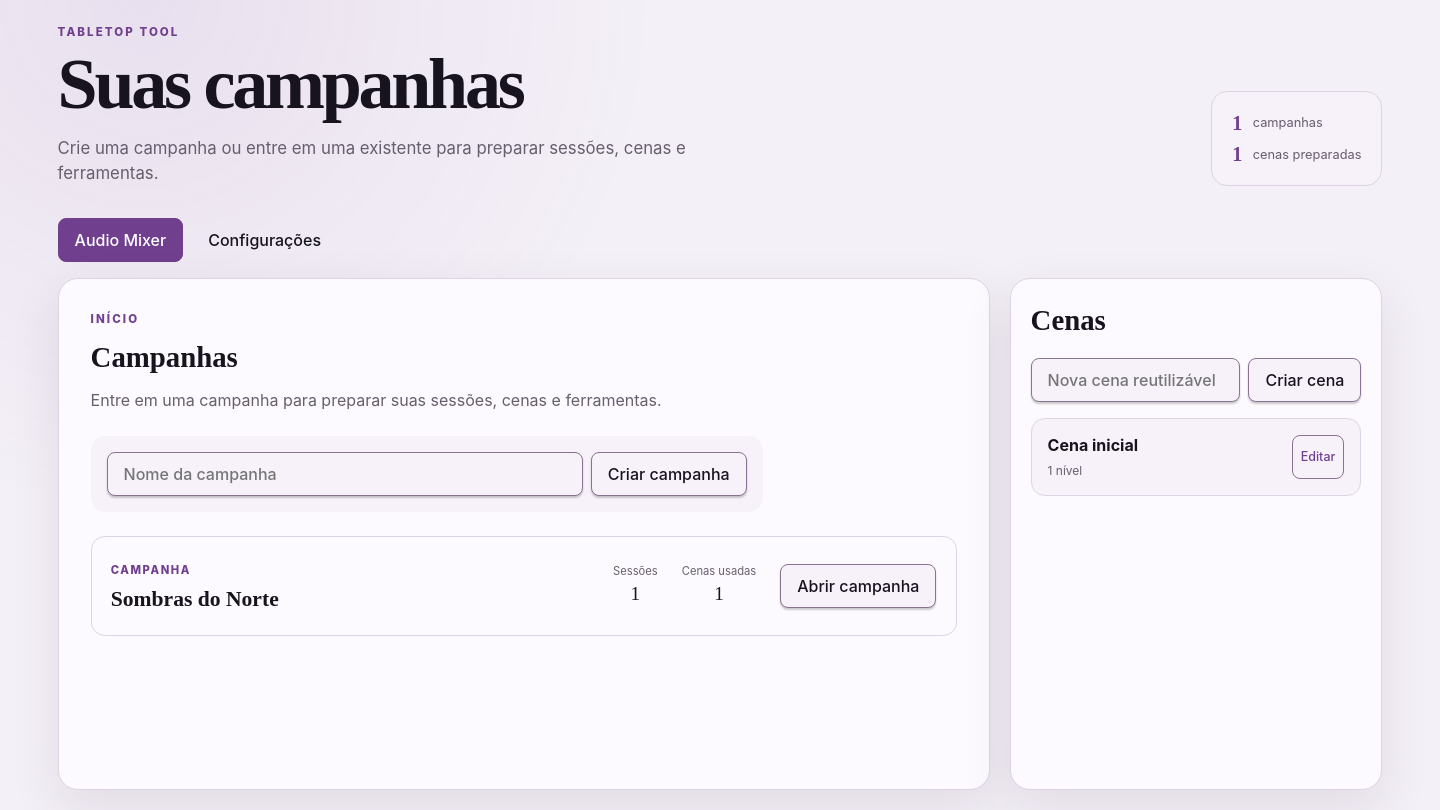
Test: Core workspace › opens a scene editor from a session sequence
Click the button with aria-label "Abrir campanha Sombras do Norte": (858, 586) [780,564,936,608]
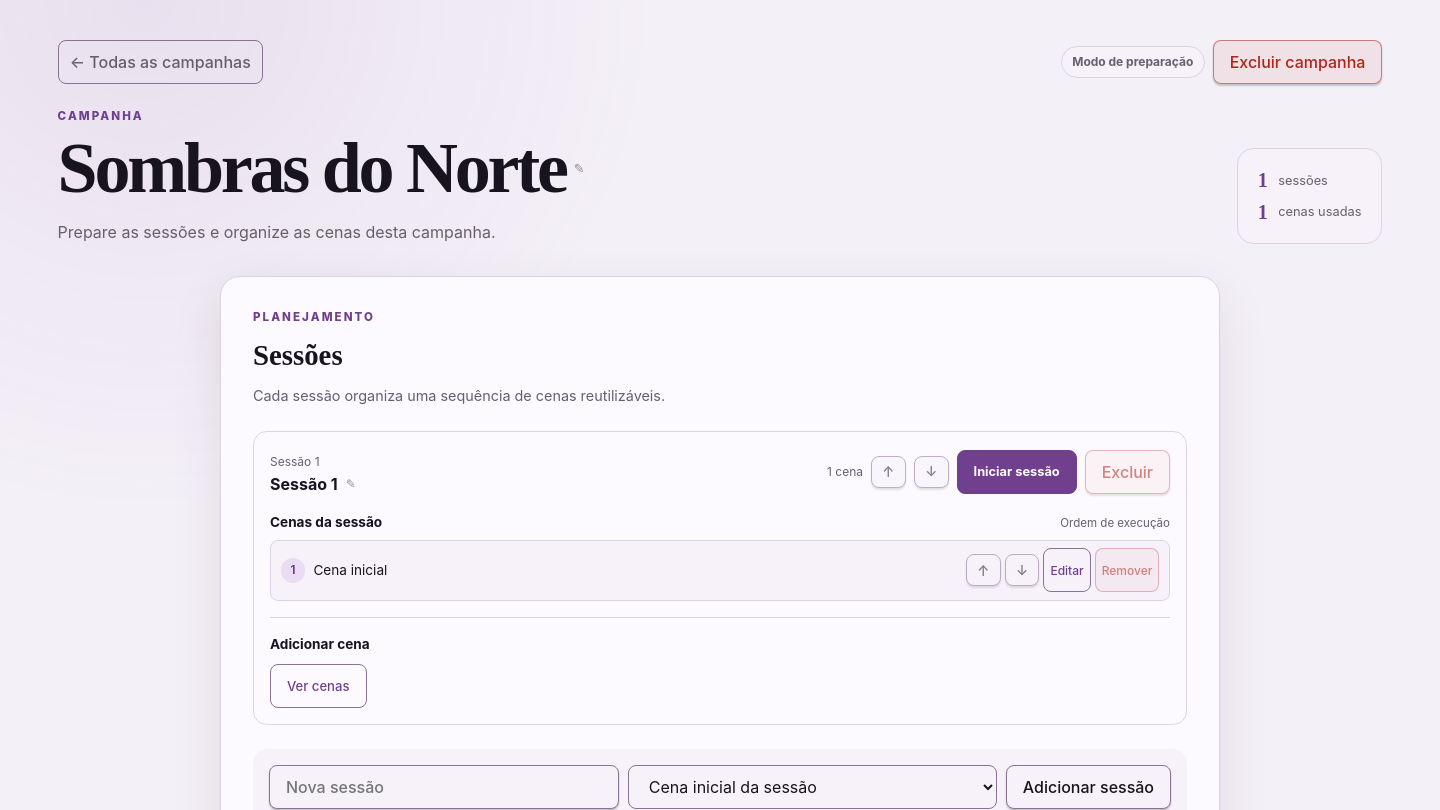
Expected: the element "Sessão 1" is shown, [253,431,1187,725]
Click the button with aria-label "Editar cena Cena inicial": (1067, 570) [1043,548,1091,592]
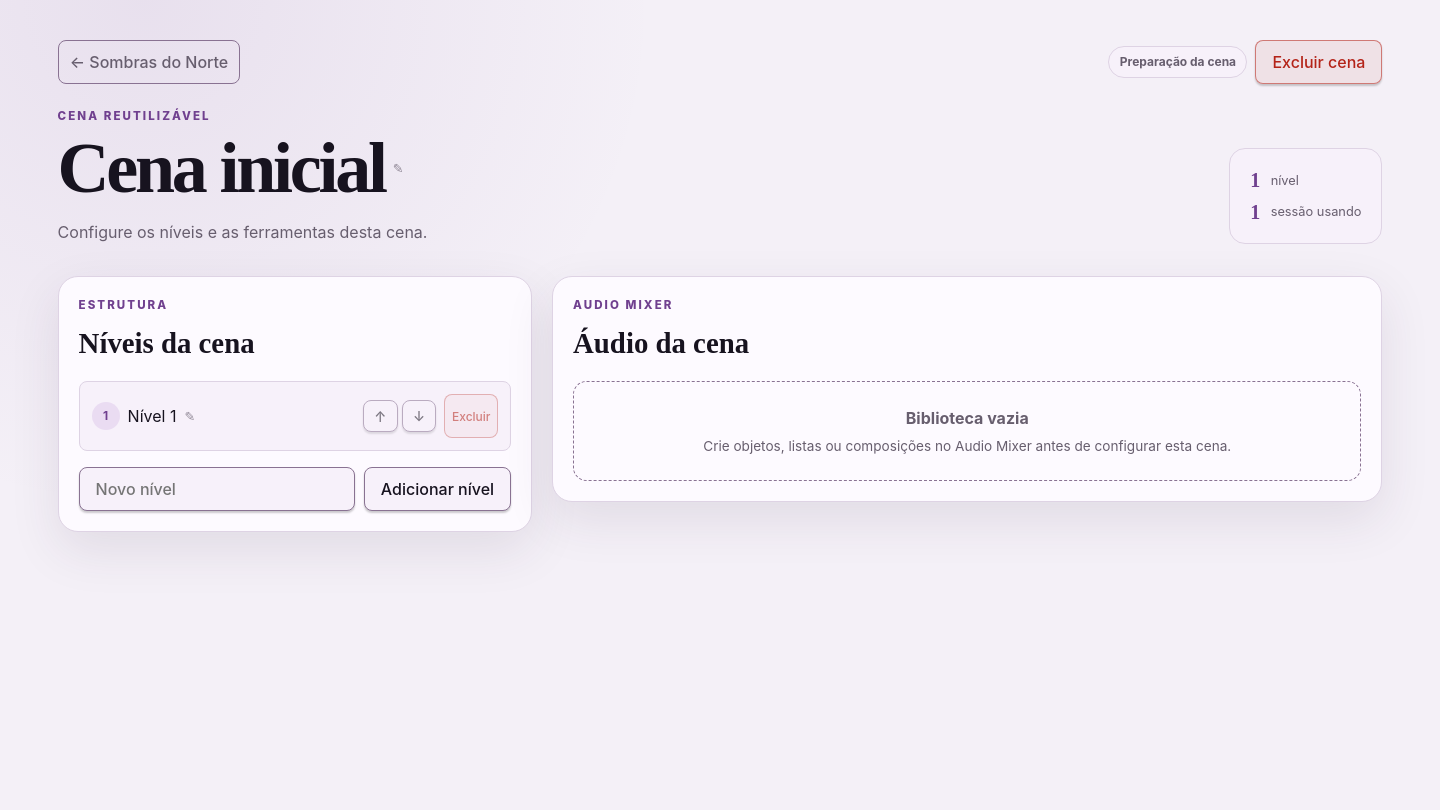
Expected: the text "Preparação da cena" is shown, [1108,46,1248,78]
Expected: the heading "Níveis da cena" is shown, [79,322,255,365]
Click the button "← Sombras do Norte": (149, 62) [58,40,240,84]
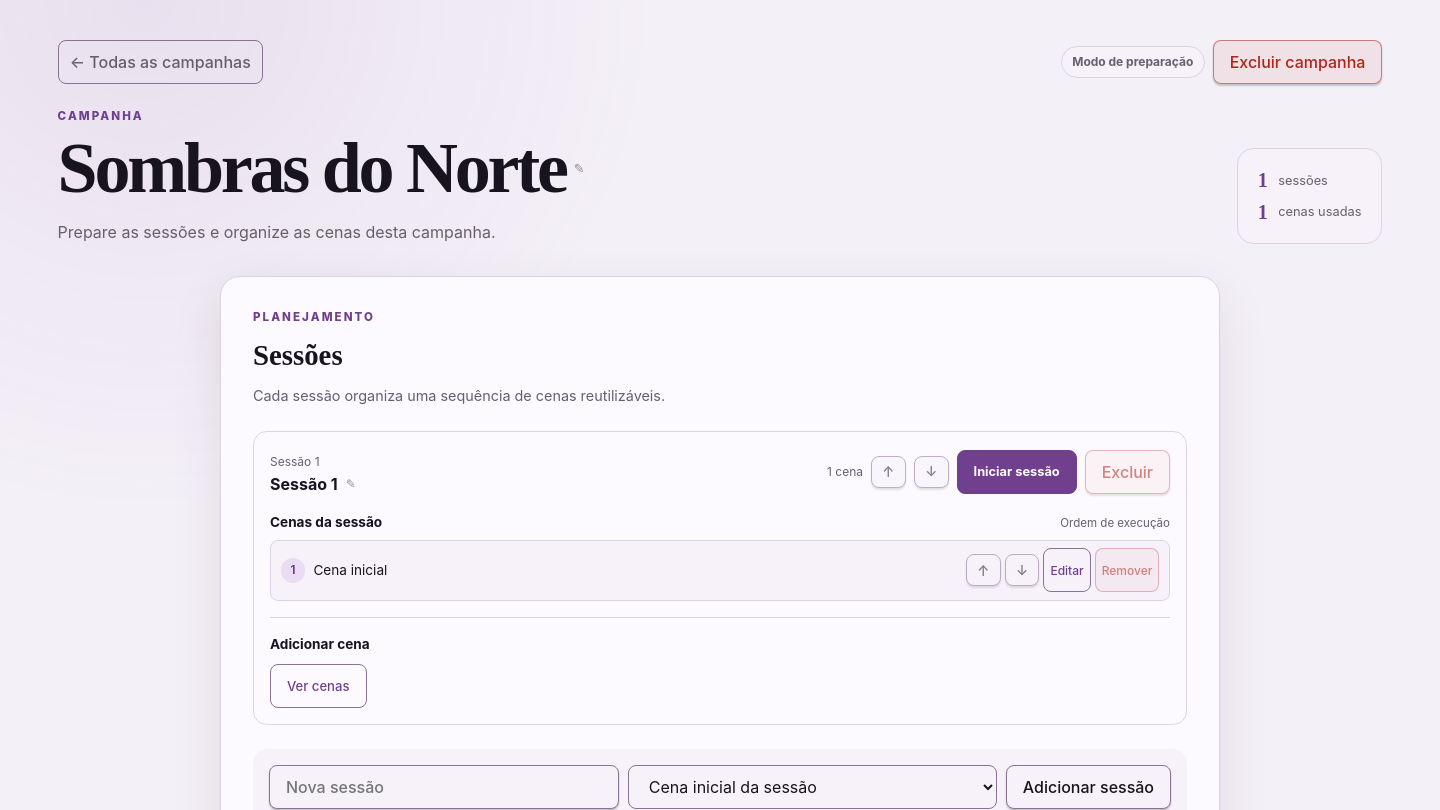
Expected: the heading "Sessões" is shown, [253,339,343,371]
